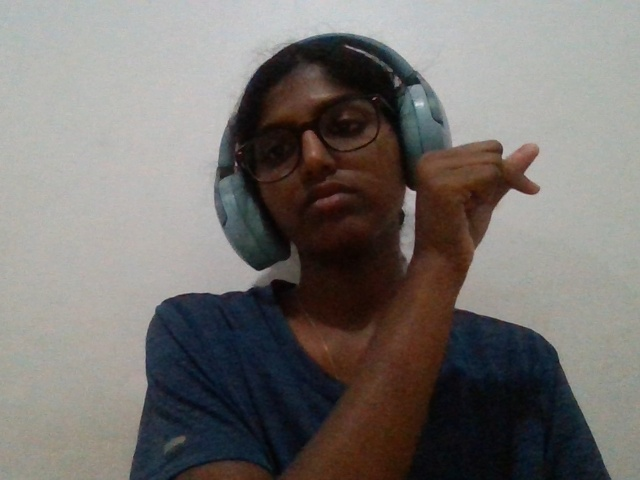G: (371, 123, 592, 369)
